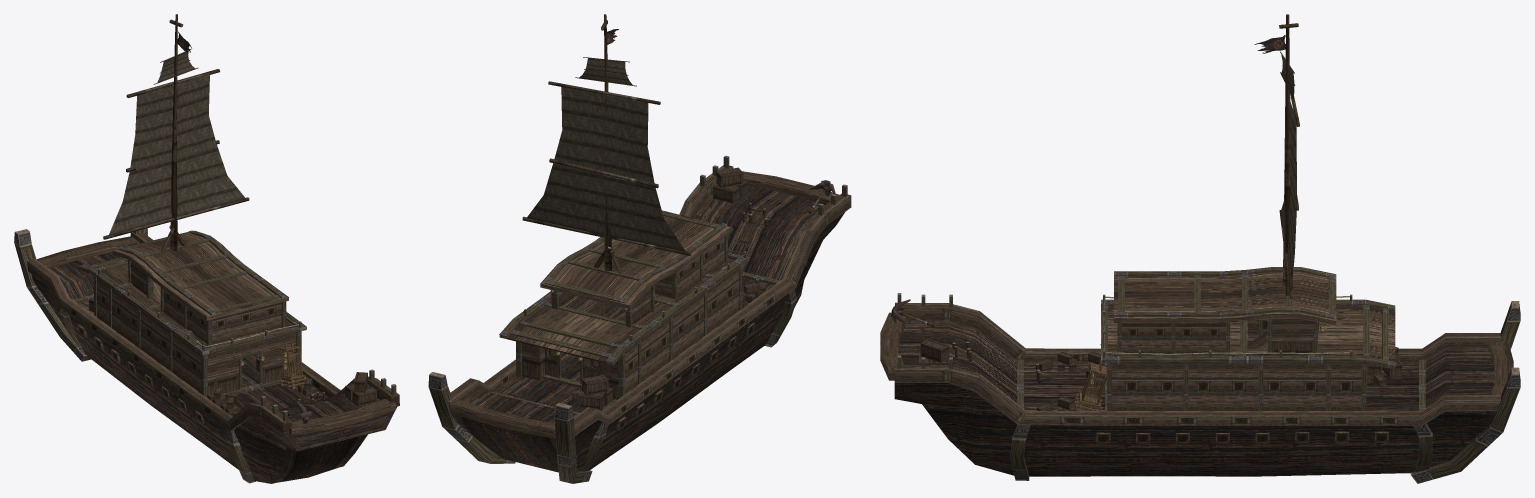
File: ship06.fbx
3 views of the same model, side by side, from view 1: azimuth 30°, elevation 25°; view 2: azimuth 150°, elevation 25°; view 3: azimuth 270°, elevation 25° (orthographic). The views are drawn at different scales.
Parts seen in each view (by area): view 1: ship06; view 2: ship06; view 3: ship06.
Boxes of the visible parts, x1=… form: ship06: x1=14, y1=14, x2=399, y2=483; ship06: x1=428, y1=14, x2=851, y2=483; ship06: x1=880, y1=14, x2=1520, y2=483.
Size of the model in its own units: 1071 by 2586 by 3358.
